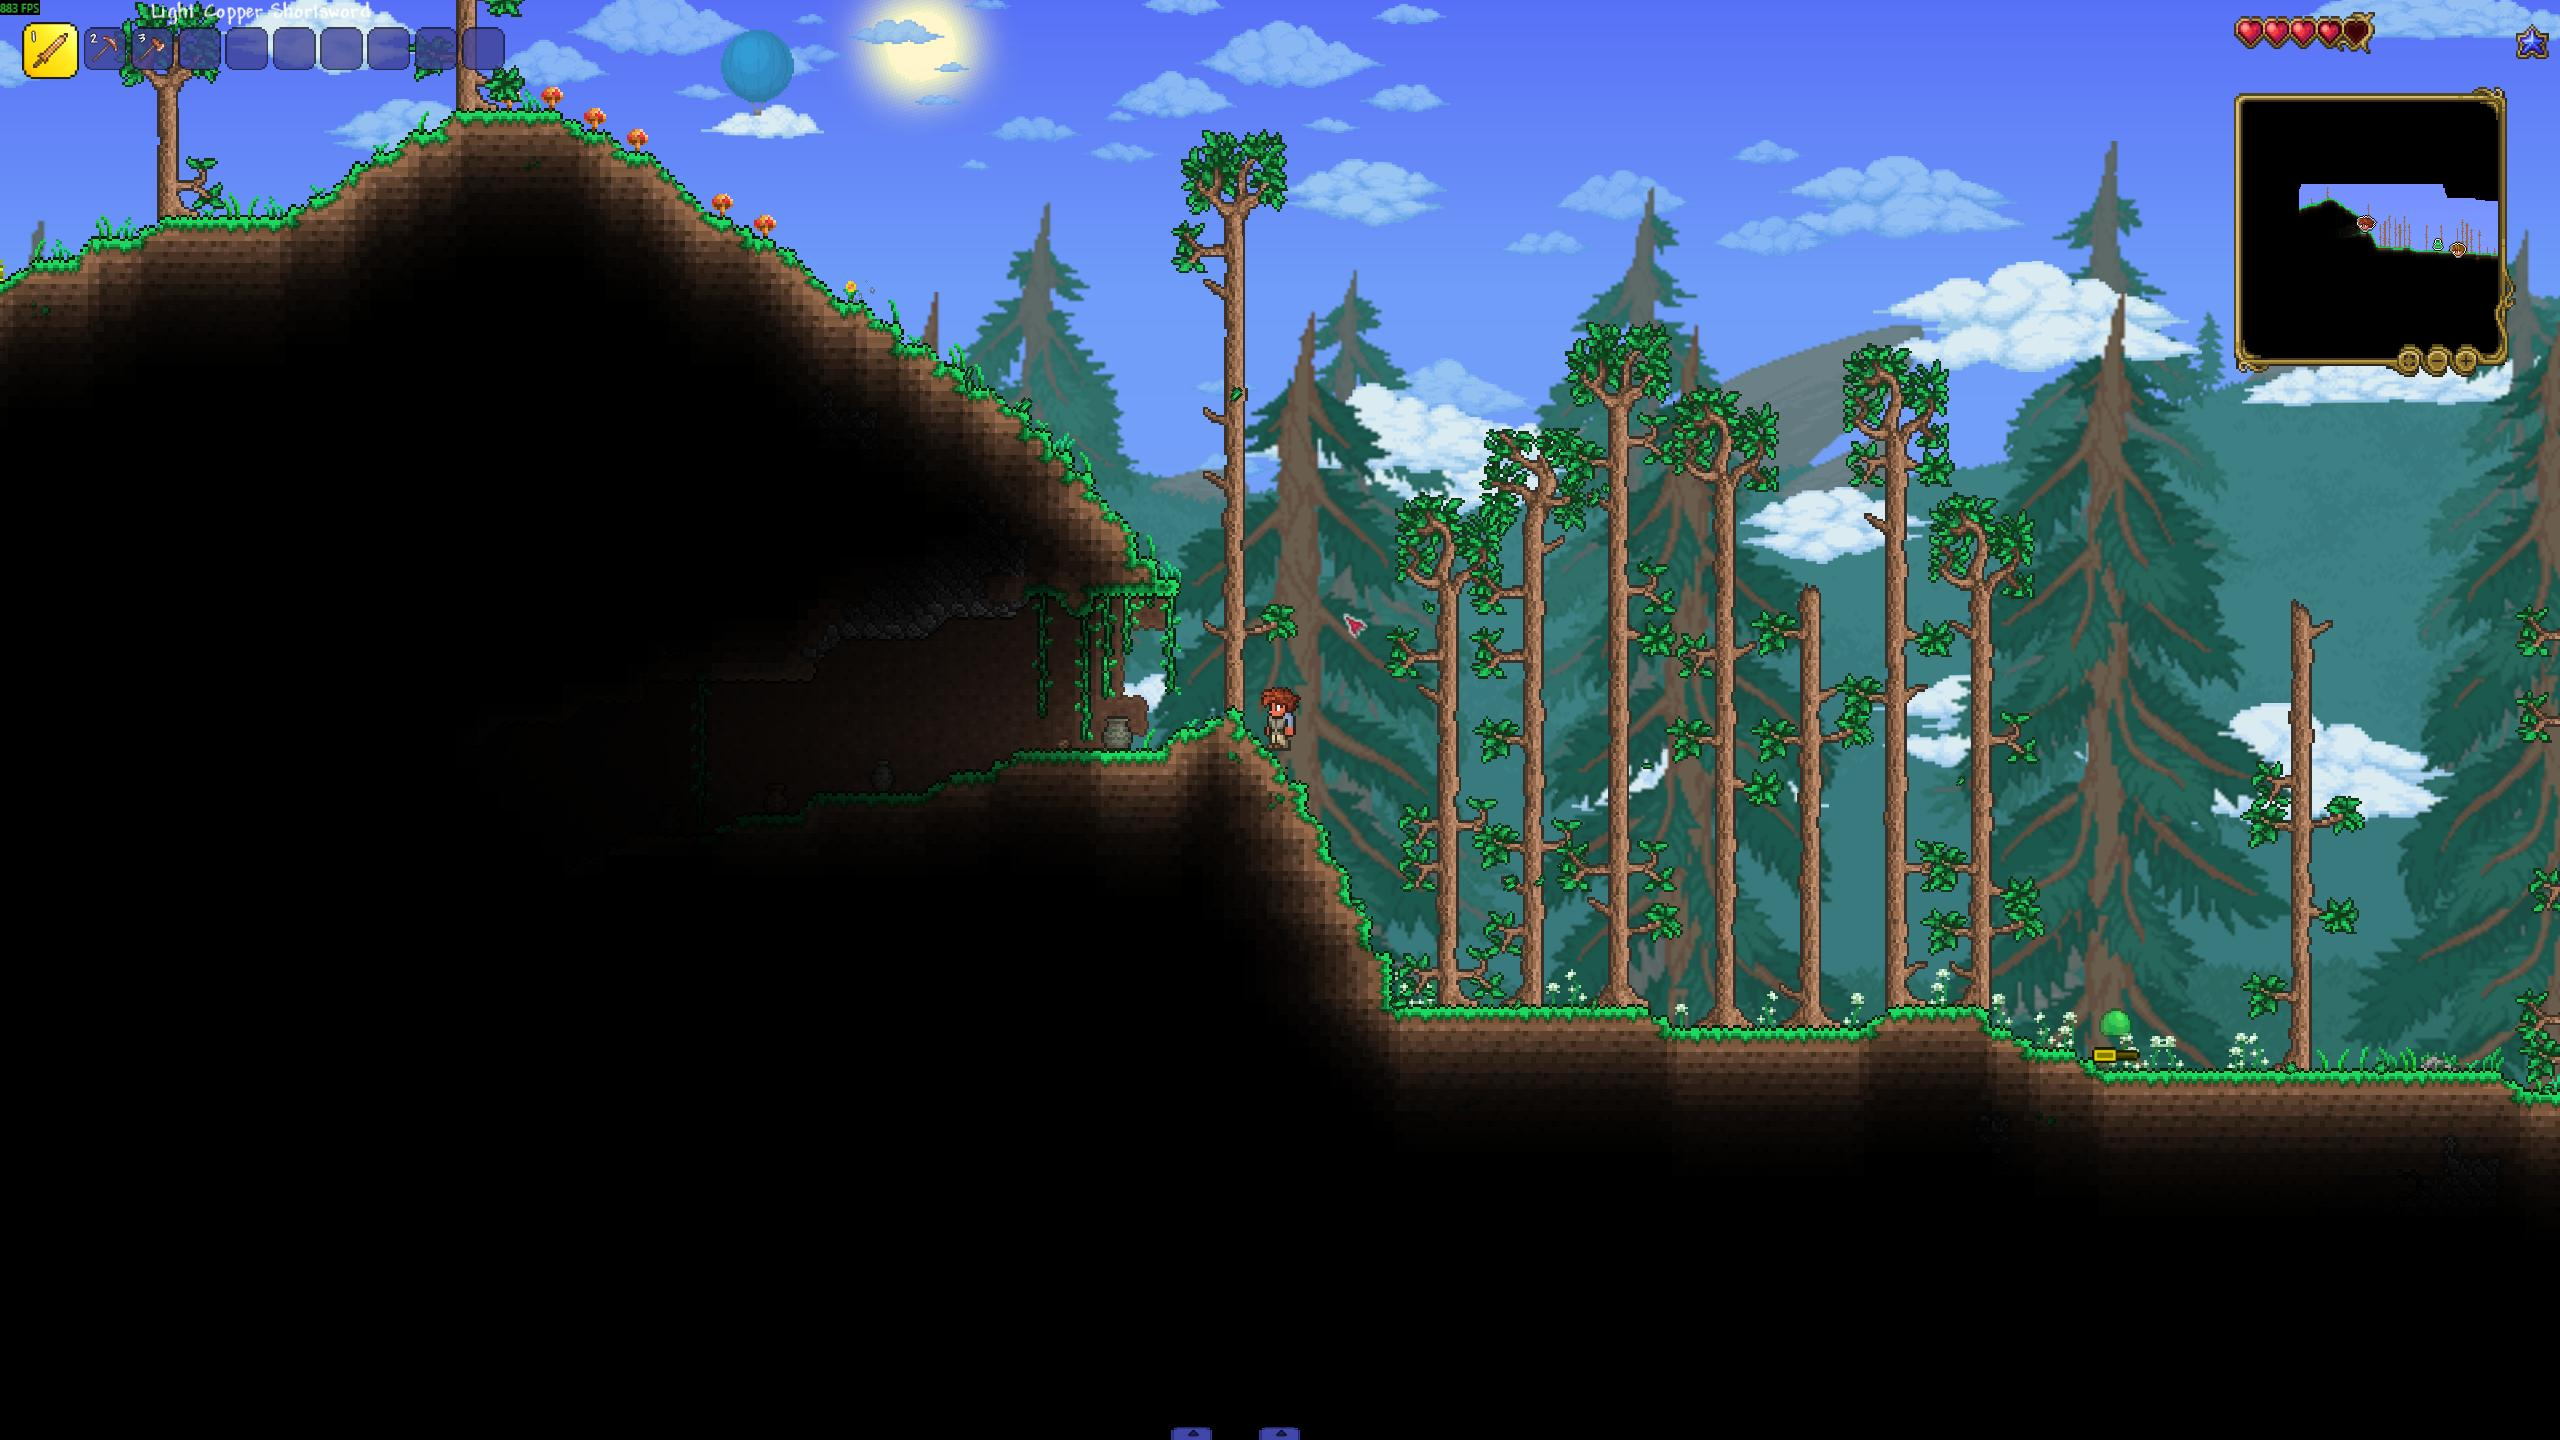Green Slime: (2096, 1006, 2135, 1041)
